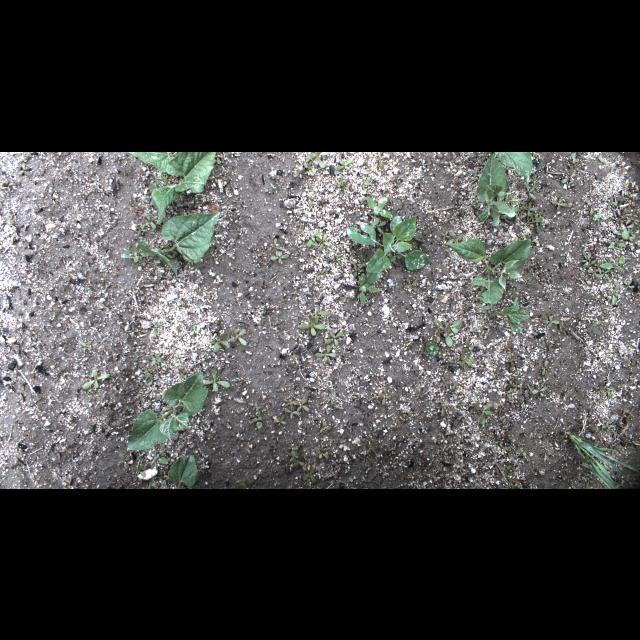crop: (442, 151, 546, 303), (127, 151, 223, 223), (126, 370, 208, 450), (140, 202, 222, 274), (474, 296, 530, 334), (166, 452, 198, 488)
weed: (348, 213, 426, 281), (566, 432, 638, 488), (434, 319, 462, 346), (205, 365, 231, 393), (467, 400, 495, 424), (298, 318, 328, 340), (358, 274, 378, 306), (364, 195, 392, 217), (120, 243, 150, 263), (82, 370, 110, 390), (209, 328, 231, 352), (314, 342, 338, 363), (324, 329, 352, 346), (150, 446, 172, 466), (302, 466, 326, 484), (606, 280, 622, 306), (228, 326, 248, 346), (360, 434, 378, 456), (614, 223, 636, 241), (309, 152, 333, 168), (288, 453, 308, 472), (308, 304, 330, 320), (312, 447, 336, 461), (602, 256, 626, 270), (305, 228, 323, 246), (376, 386, 392, 406), (316, 232, 332, 252), (510, 376, 530, 392), (582, 251, 598, 271), (251, 409, 265, 431), (140, 213, 158, 230), (232, 478, 260, 488), (540, 314, 560, 328), (118, 452, 132, 472), (172, 356, 184, 378), (334, 157, 354, 170), (348, 261, 364, 277), (458, 353, 476, 367), (590, 151, 610, 163), (133, 459, 145, 479), (270, 251, 290, 263), (294, 398, 310, 412), (498, 386, 514, 400), (1, 180, 18, 193), (336, 175, 348, 193), (19, 158, 31, 176), (284, 406, 302, 418), (303, 159, 315, 177), (550, 198, 568, 210), (461, 340, 479, 352), (437, 396, 447, 416), (540, 356, 550, 376), (586, 315, 606, 325), (506, 352, 520, 366), (425, 342, 439, 356), (559, 172, 575, 184), (373, 152, 385, 168), (582, 472, 594, 488), (371, 216, 384, 230), (530, 385, 548, 395), (147, 355, 165, 365), (319, 422, 333, 434), (404, 278, 418, 290), (152, 320, 162, 336), (140, 367, 154, 378), (274, 414, 286, 426), (505, 460, 517, 472), (624, 278, 636, 290), (327, 393, 337, 407), (78, 341, 92, 351), (316, 267, 326, 281), (145, 478, 159, 488), (507, 476, 518, 488), (286, 442, 302, 450), (272, 236, 280, 252), (484, 428, 492, 444), (606, 382, 614, 398), (610, 240, 626, 248), (610, 200, 626, 208), (503, 445, 512, 459), (440, 377, 450, 389), (27, 328, 37, 340), (246, 400, 258, 410), (210, 170, 222, 180), (286, 395, 298, 405), (598, 268, 608, 280), (586, 200, 594, 214), (561, 427, 571, 438), (134, 224, 146, 233), (598, 381, 606, 394), (190, 324, 200, 334), (294, 168, 304, 178), (494, 436, 504, 446), (593, 211, 603, 221), (132, 284, 144, 292), (479, 324, 487, 336), (517, 450, 529, 458), (602, 421, 614, 429), (571, 152, 579, 164), (362, 176, 371, 186), (175, 325, 182, 337), (496, 406, 506, 414), (332, 254, 342, 262), (6, 210, 14, 220), (149, 376, 159, 384), (448, 356, 458, 364), (600, 326, 610, 334), (629, 292, 637, 302), (601, 220, 611, 228), (528, 416, 540, 422), (402, 413, 410, 422), (455, 401, 467, 407), (558, 328, 570, 334), (597, 306, 609, 312), (451, 232, 463, 238), (504, 343, 512, 351), (100, 302, 108, 310), (394, 174, 402, 182), (392, 254, 400, 262), (548, 191, 556, 199), (34, 328, 40, 338), (560, 251, 566, 261), (309, 194, 315, 204), (115, 154, 121, 164), (590, 270, 596, 280), (630, 217, 640, 223), (414, 362, 418, 376), (403, 392, 409, 401), (490, 375, 502, 379), (601, 186, 607, 194), (269, 181, 275, 189), (476, 332, 484, 338), (204, 354, 210, 361), (339, 151, 349, 155), (292, 452, 296, 462), (533, 330, 539, 336), (600, 370, 606, 374), (431, 279, 435, 285), (600, 176, 606, 180), (637, 280, 639, 290), (610, 214, 614, 218)
